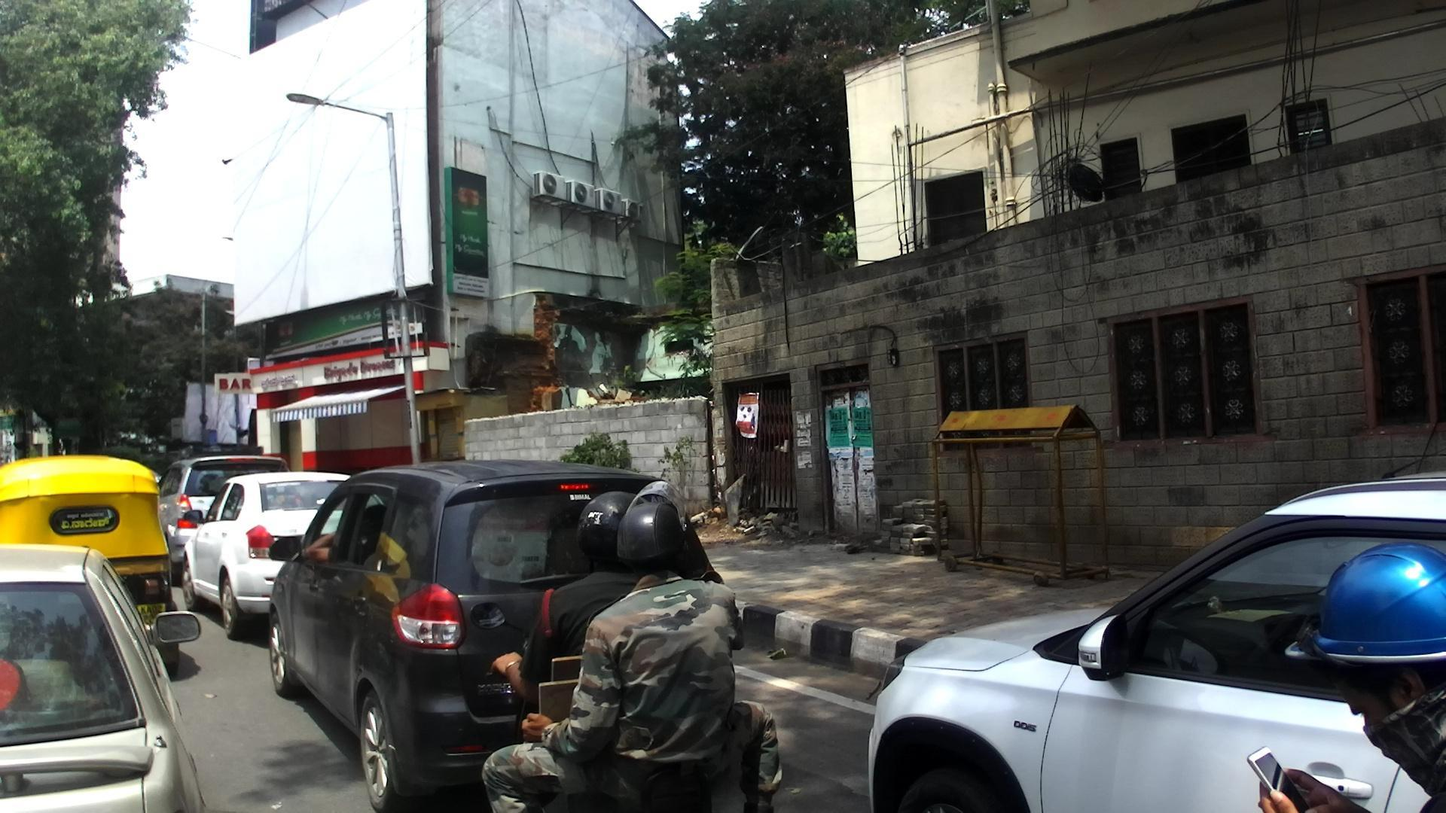streetlight: (284, 91, 395, 128)
